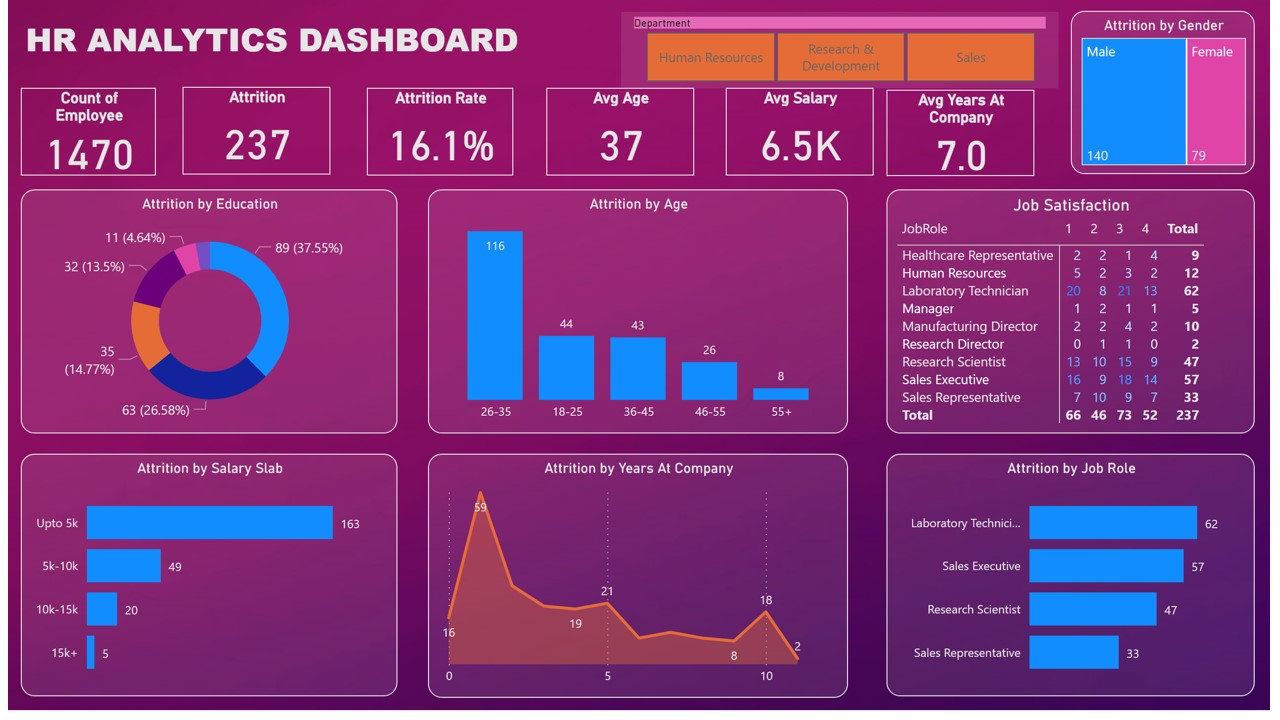

This screenshot's page, from the dashboard's own definition file:
{"tool":"powerbi","page":{"name":"Page 1","canvas":[1280,720],"ordinal":0},"visuals":[{"type":"card","title":"Count of Employee","fields":{"Values":["CountNonNull(HR_Analytics.EmpID)"]},"box":[12.7,89.1,137.2,89.1],"z":0},{"type":"card","title":"Attrition","fields":{"Values":["Sum(HR_Analytics.AttritionCount)"]},"box":[176.8,87.7,149.9,89.1],"z":1000},{"type":"card","title":"Attrition Rate","fields":{"Values":["HR_Analytics.AttritionRate"]},"box":[363.5,89.1,148.5,89.1],"z":2000},{"type":"card","title":"Avg Age","fields":{"Values":["Avg(HR_Analytics.Age)"]},"box":[546,89.1,149.9,89.1],"z":3000},{"type":"card","title":"Avg Salary","fields":{"Values":["Avg(HR_Analytics.MonthlyIncome)"]},"box":[728.5,89.1,149.9,89.1],"z":4000},{"type":"card","title":"Avg Years At Company","fields":{"Values":["Avg(HR_Analytics.YearsAtCompany)"]},"box":[891.2,90.5,149.9,87.7],"z":5000},{"type":"donutChart","title":"Attrition by Education","fields":{"Category":["HR_Analytics.EducationField"],"Y":["Sum(HR_Analytics.AttritionCount)"]},"box":[12.7,192.4,381.9,247.5],"z":6000},{"type":"columnChart","title":"Attrition by Age","fields":{"Category":["HR_Analytics.AgeGroup"],"Y":["Sum(HR_Analytics.AttritionCount)"]},"box":[425.8,192.4,425.8,247.5],"z":7000},{"type":"pivotTable","title":"Job Satisfaction","fields":{"Rows":["HR_Analytics.JobRole"],"Columns":["HR_Analytics.JobSatisfaction"],"Values":["Sum(HR_Analytics.AttritionCount)"]},"box":[891.2,192.4,373.4,247.5],"z":8000},{"type":"barChart","title":"Attrition by Salary Slab","fields":{"Category":["HR_Analytics.SalarySlab"],"Y":["Sum(HR_Analytics.AttritionCount)"]},"box":[12.7,459.7,381.9,246.1],"z":9000},{"type":"barChart","title":"Attrition by Job Role","fields":{"Y":["Sum(HR_Analytics.AttritionCount)"],"Category":["HR_Analytics.JobRole"]},"box":[891.2,459.7,373.4,246.1],"z":10000},{"type":"areaChart","title":"Attrition by Years At Company","fields":{"Category":["HR_Analytics.YearsAtCompany"],"Y":["Sum(HR_Analytics.AttritionCount)"]},"box":[425.8,459.7,425.8,247.5],"z":11000},{"type":"treemap","title":"Attrition by Gender","fields":{"Values":["Sum(HR_Analytics.AttritionCount)"],"Group":["HR_Analytics.Gender"]},"box":[1077.9,11.3,186.7,165.5],"z":12000},{"type":"slicer","fields":{"Values":["HR_Analytics.Department"]},"box":[621.5,11.8,443.5,77.3],"z":13000},{"type":"textbox","box":[13.4,11.8,589.6,57.1],"z":14000}]}

Visuals, with their boxes in screenshot pixels (x1, y1, x2, y2), scaled from the page's 1280x720 canvas onto the 1280x720 screenshot:
"Count of Employee" card: {"x1": 13, "y1": 89, "x2": 150, "y2": 178}
"Attrition" card: {"x1": 177, "y1": 88, "x2": 327, "y2": 177}
"Attrition Rate" card: {"x1": 364, "y1": 89, "x2": 512, "y2": 178}
"Avg Age" card: {"x1": 546, "y1": 89, "x2": 696, "y2": 178}
"Avg Salary" card: {"x1": 728, "y1": 89, "x2": 878, "y2": 178}
"Avg Years At Company" card: {"x1": 891, "y1": 90, "x2": 1041, "y2": 178}
"Attrition by Education" donutChart: {"x1": 13, "y1": 192, "x2": 395, "y2": 440}
"Attrition by Age" columnChart: {"x1": 426, "y1": 192, "x2": 852, "y2": 440}
"Job Satisfaction" pivotTable: {"x1": 891, "y1": 192, "x2": 1265, "y2": 440}
"Attrition by Salary Slab" barChart: {"x1": 13, "y1": 460, "x2": 395, "y2": 706}
"Attrition by Job Role" barChart: {"x1": 891, "y1": 460, "x2": 1265, "y2": 706}
"Attrition by Years At Company" areaChart: {"x1": 426, "y1": 460, "x2": 852, "y2": 707}
"Attrition by Gender" treemap: {"x1": 1078, "y1": 11, "x2": 1265, "y2": 177}
slicer - HR_Analytics.Department: {"x1": 622, "y1": 12, "x2": 1065, "y2": 89}
textbox: {"x1": 13, "y1": 12, "x2": 603, "y2": 69}
